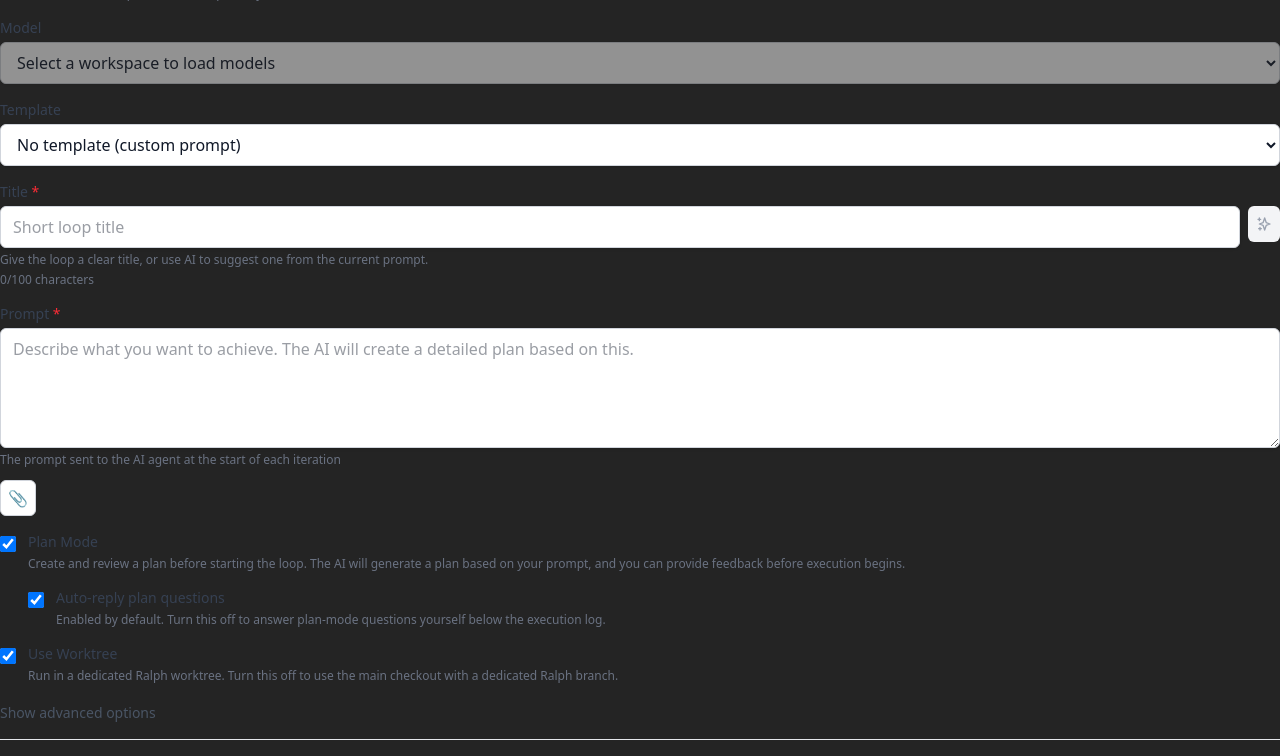
CreateLoopForm › advanced options › toggle button text changes when expanded
This screenshot has width=1280, height=756.
(page scrolled)
Click the button "Show advanced options" at (78, 713), box [0,703,156,723]
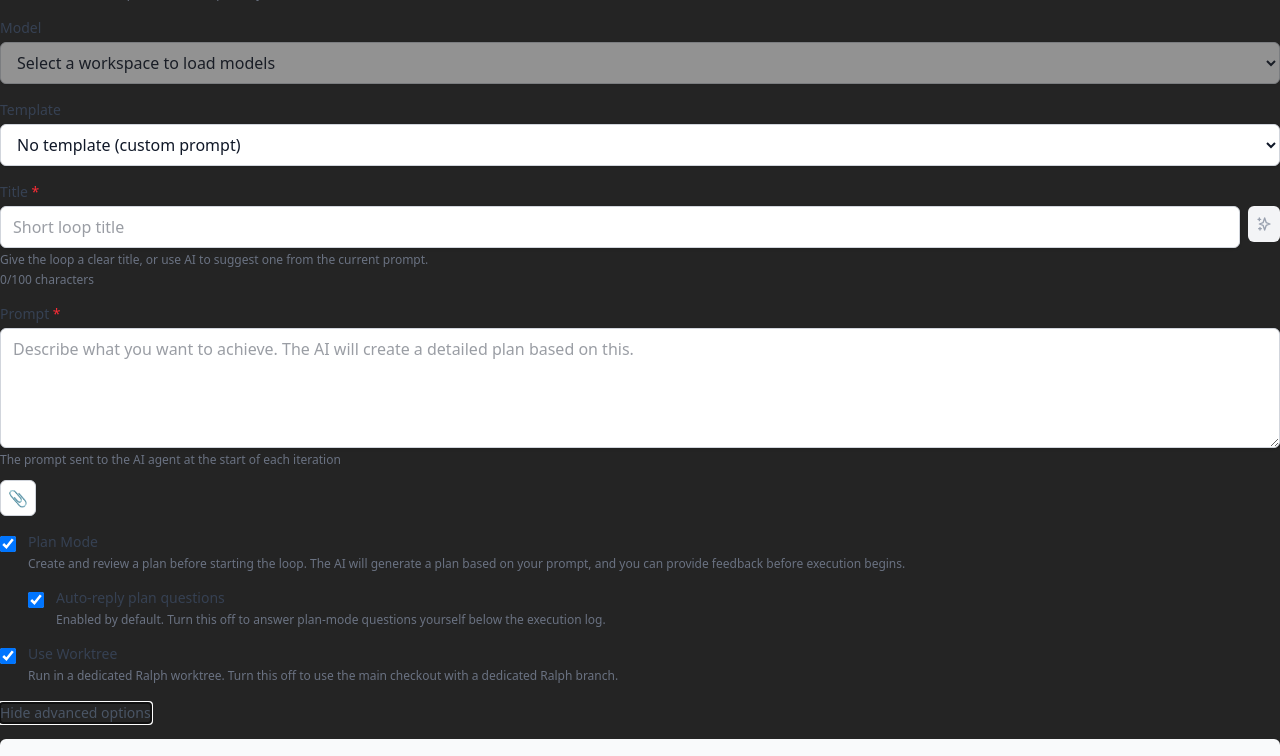
Check: the button "Hide advanced options" is shown, box [0,703,151,723]
